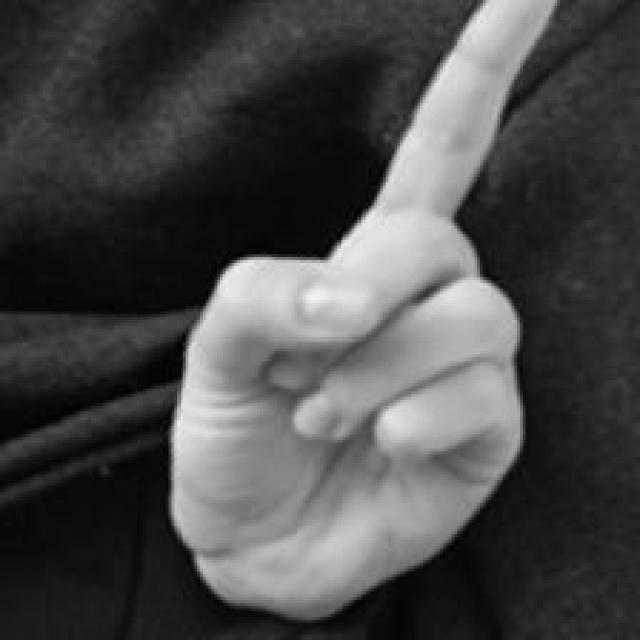I: (167, 0, 560, 624)
